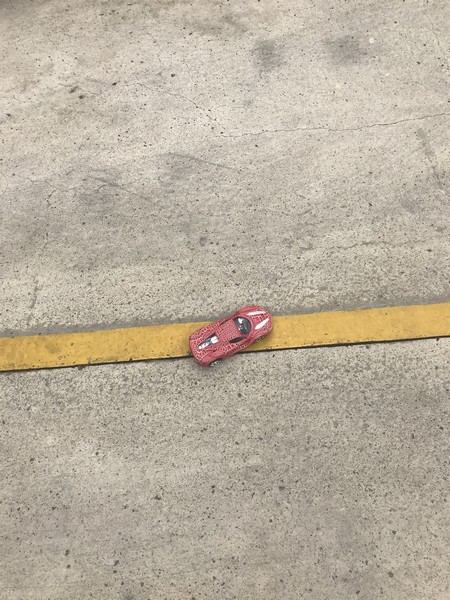RC: (187, 304, 273, 368)
